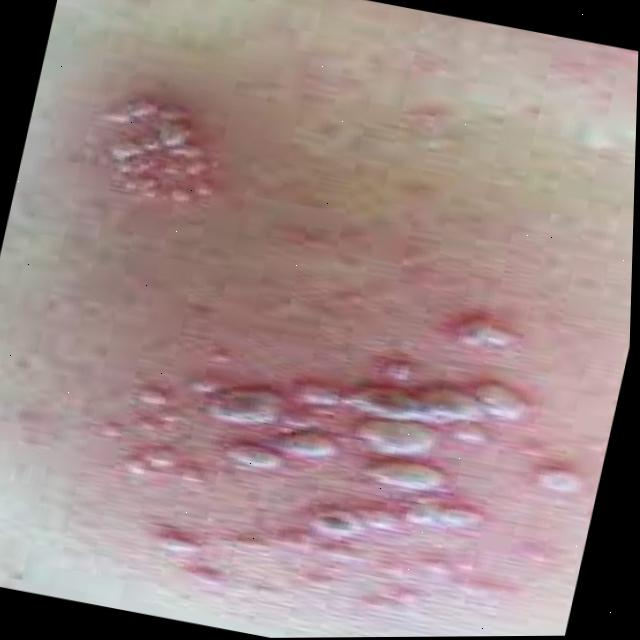Shingles: (88, 249, 608, 639), (84, 78, 246, 224)
